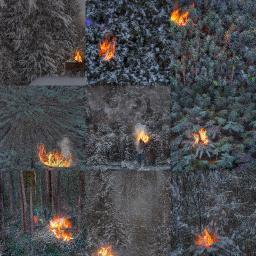Small fire: (36, 143, 78, 175), (196, 222, 216, 256), (132, 117, 151, 150), (48, 217, 73, 241), (189, 130, 217, 151), (98, 38, 119, 63), (97, 241, 127, 256), (170, 6, 190, 25), (72, 46, 83, 62)
